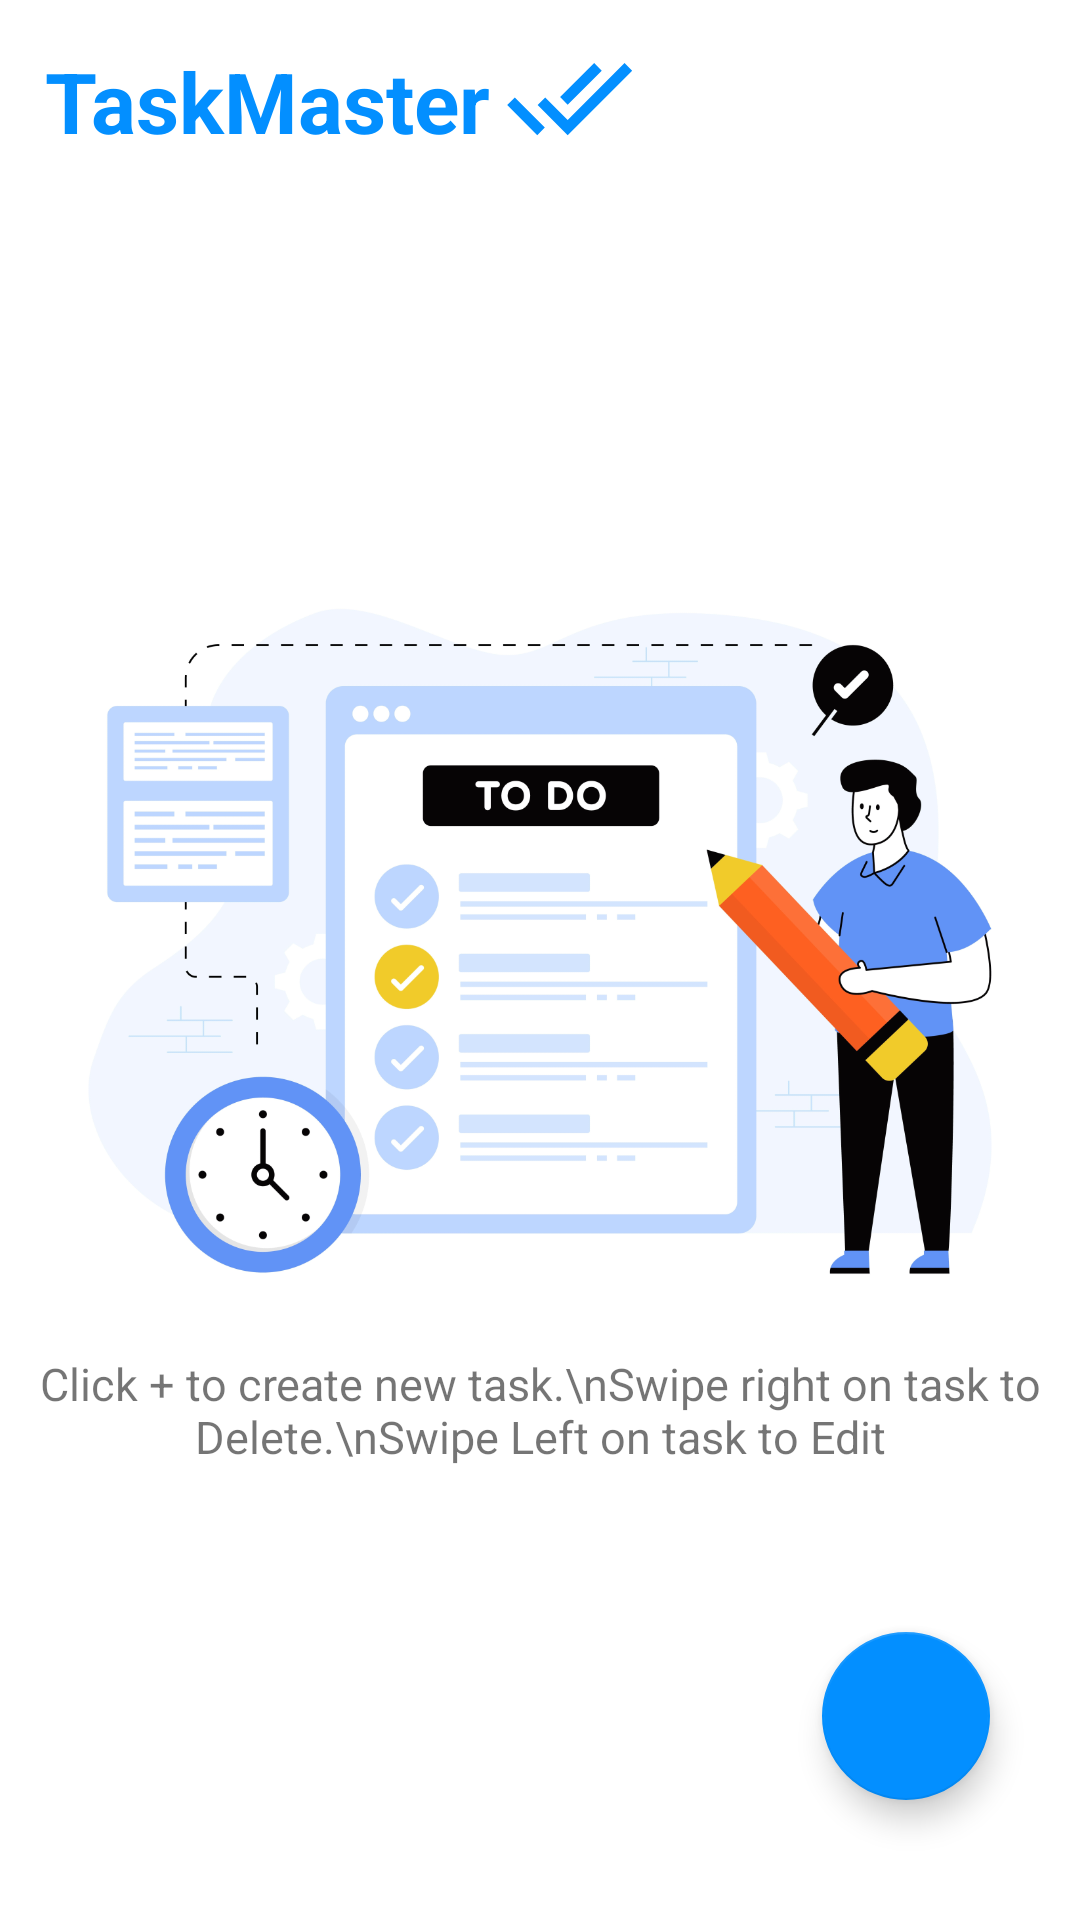

Screen size 1080*1920. Icon name, then its box in pixels as (x1, y1, x2, y2):
done: (507, 63, 632, 135)
